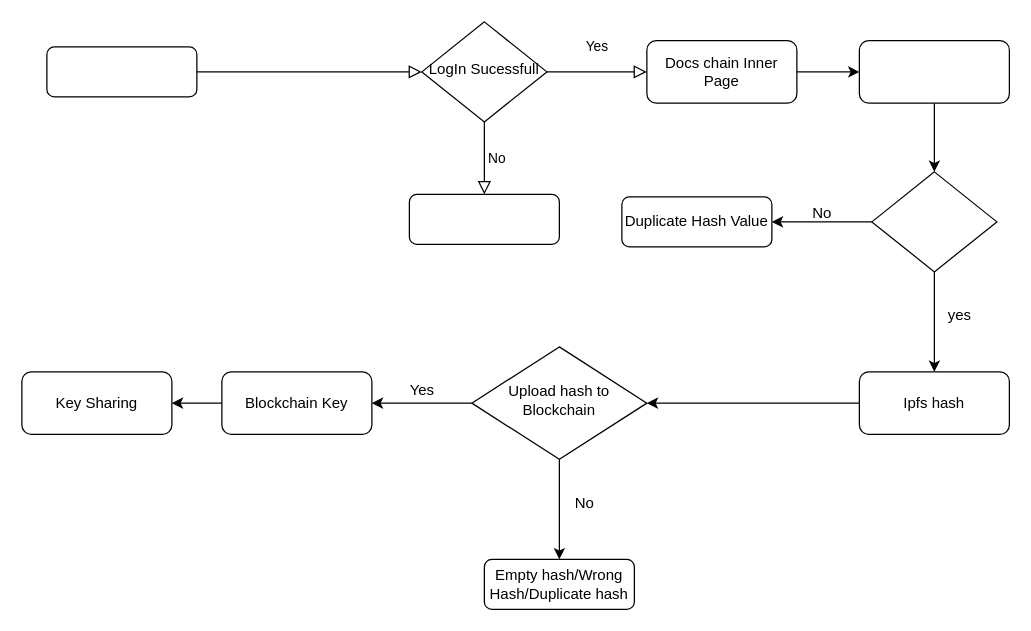
Image size: 1031x631. Some labels were removed from this diagram. Each missing label, with the centre of its shape:
"Docschain Login" goes at point 121,71.
"Please Register/ Wrong Credentials" goes at point 483,218.
"Upload a Document" goes at point 933,71.
"Upload Sucessfull" goes at point 934,221.
